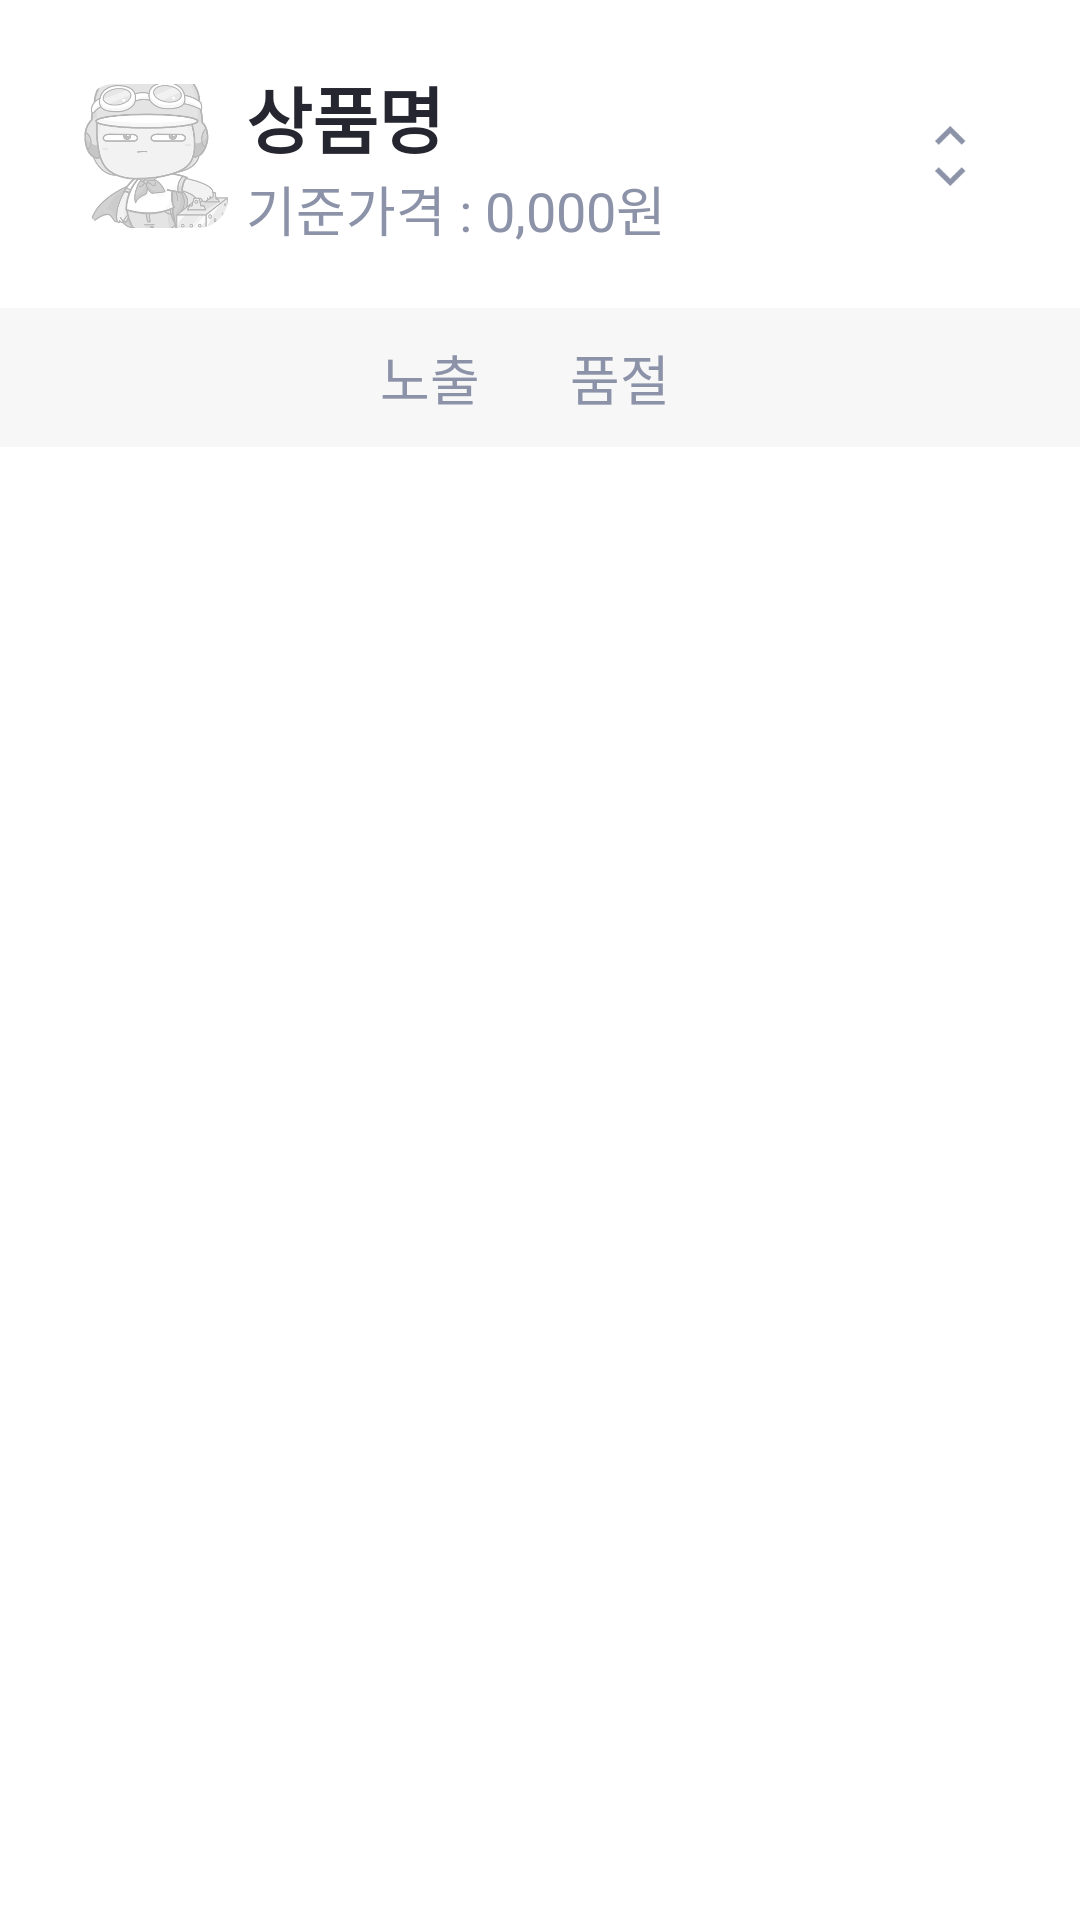

Screen size 1080w x 1920h. Icon name, then its center in pixels as (x=x, y=y):
up down move: (x=950, y=156)
